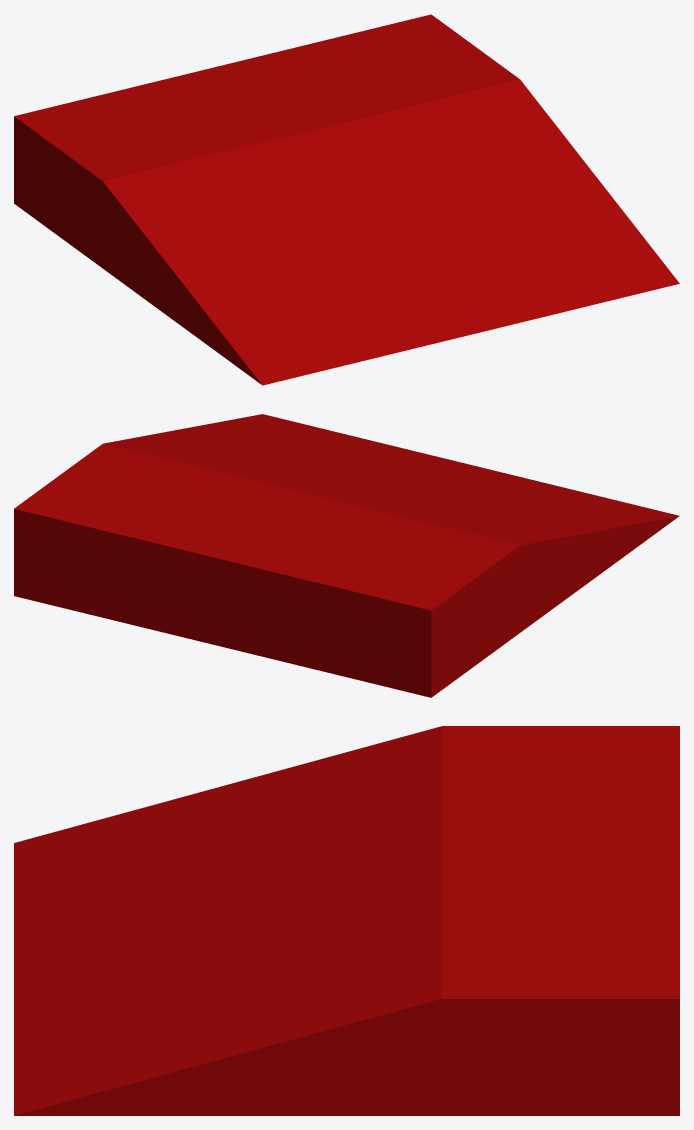
Rendered from SM_Env_Steps_01_Collision.glb.
3 renders of one model, top to bottom at view 1: azimuth 30°, elevation 25°; view 2: azimuth 150°, elevation 25°; view 3: azimuth 270°, elevation 25°, orthographic. The views are drawn at different scales.
Visible parts, largest first — view 1: SM_Env_Steps_01_Collision; view 2: SM_Env_Steps_01_Collision; view 3: SM_Env_Steps_01_Collision.
Boxes of the visible parts, <box> form: SM_Env_Steps_01_Collision: <box>14,14,679,385</box>; SM_Env_Steps_01_Collision: <box>14,414,679,697</box>; SM_Env_Steps_01_Collision: <box>14,726,679,1115</box>.
Bounding box in the file's own units: 5 × 1 × 5.16.
